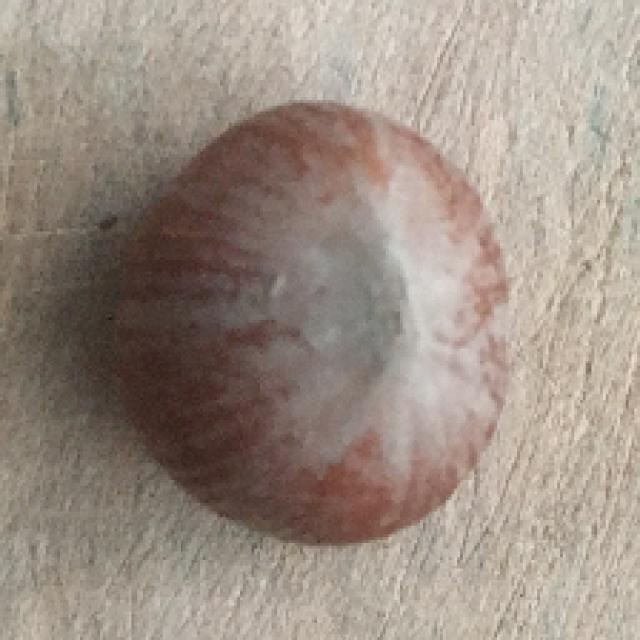QualityHazelnut: (110, 98, 515, 549)
